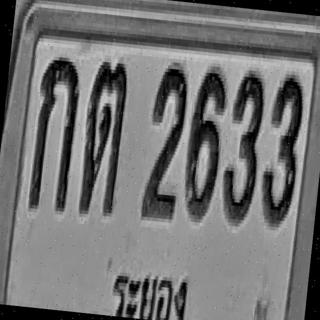A01: (27, 52, 82, 212)
A21: (78, 57, 130, 217)
N02: (140, 60, 191, 220)
N03: (219, 65, 267, 224), (258, 70, 306, 228)
N06: (180, 63, 228, 222)
P53: (106, 255, 200, 320)
